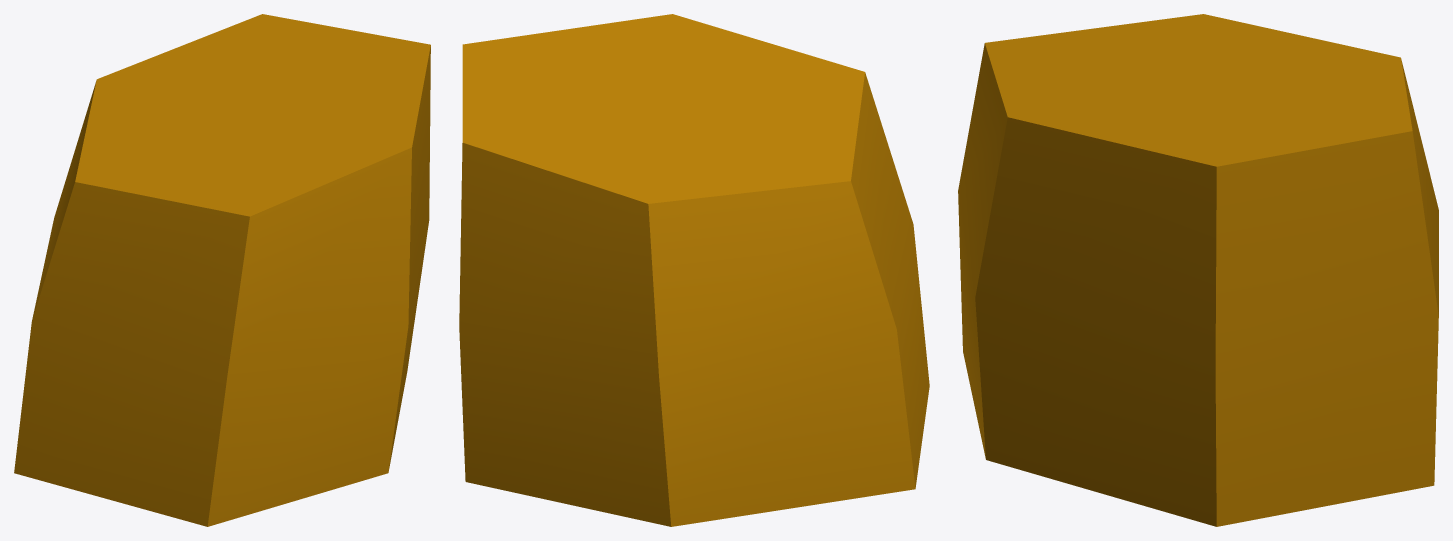
Rendered from Pierre_2.FBX.
The picture shows the model from 3 angles, left to right: view 1: azimuth 30°, elevation 25°; view 2: azimuth 150°, elevation 25°; view 3: azimuth 270°, elevation 25°; orthographic projection. The views are drawn at different scales.
Visible parts, largest first — view 1: Cone001; view 2: Cone001; view 3: Cone001.
Boxes of the visible parts, bbox=[...] form: Cone001: bbox=[14, 14, 430, 526]; Cone001: bbox=[459, 14, 929, 526]; Cone001: bbox=[958, 14, 1438, 526].
Bounding box in the file's own units: 90.28 × 65.61 × 76.53.
